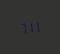one: (33, 19, 39, 33), (26, 20, 32, 33)
seven: (18, 20, 24, 34)
